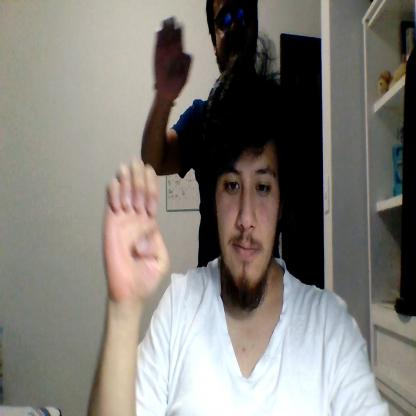E: (101, 158, 169, 302)
